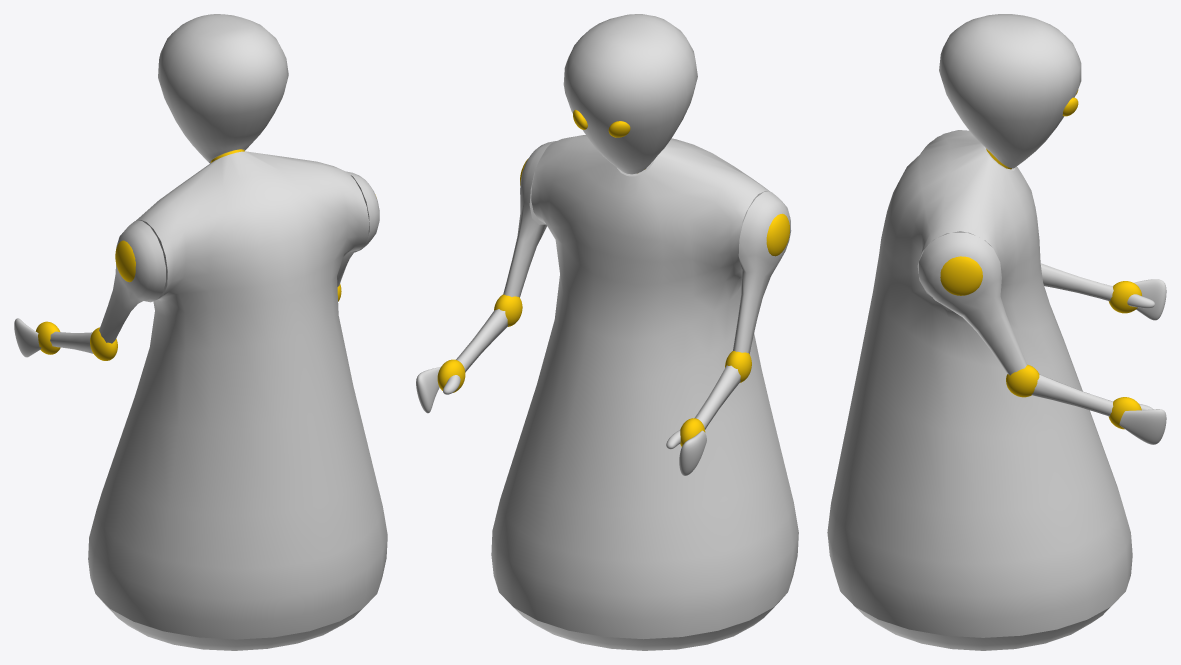
Rendered from FATBOT_01.FBX.
3 renders of one model, left to right at view 1: azimuth 30°, elevation 25°; view 2: azimuth 150°, elevation 25°; view 3: azimuth 270°, elevation 25°, orthographic. The views are drawn at different scales.
Parts seen in each view (by area): view 1: Box062, Cylinder061, Cylinder069, fatbot_01, Cylinder070, Sphere018, Sphere016; view 2: Box062, Cylinder061, Cylinder069, fatbot_01, Cylinder070, Sphere018, Sphere020, Sphere021; view 3: Box062, Cylinder061, Cylinder070, fatbot_01, Sphere014, Sphere020, Sphere019, Sphere021.
Boxes of the visible parts, <box> form: Box062: <box>88,151,387,650</box>; Cylinder061: <box>158,14,288,163</box>; Cylinder069: <box>99,221,165,343</box>; fatbot_01: <box>14,149,244,357</box>; Cylinder070: <box>337,171,379,286</box>; Sphere018: <box>115,240,135,282</box>; Sphere016: <box>90,327,117,360</box>; Box062: <box>491,135,798,650</box>; Cylinder061: <box>563,14,697,174</box>; Cylinder069: <box>733,192,791,353</box>; fatbot_01: <box>416,169,740,475</box>; Cylinder070: <box>503,141,556,297</box>; Sphere018: <box>766,213,789,256</box>; Sphere020: <box>494,294,522,326</box>; Sphere021: <box>437,359,465,392</box>; Box062: <box>827,130,1132,650</box>; Cylinder061: <box>939,14,1081,168</box>; Cylinder070: <box>918,232,1027,375</box>; fatbot_01: <box>986,148,1166,444</box>; Sphere014: <box>940,256,982,295</box>; Sphere020: <box>1006,364,1039,397</box>; Sphere019: <box>1108,281,1141,313</box>; Sphere021: <box>1108,397,1141,429</box>.
Bounding box in the file's own units: 31.2 × 63.65 × 33.36.
